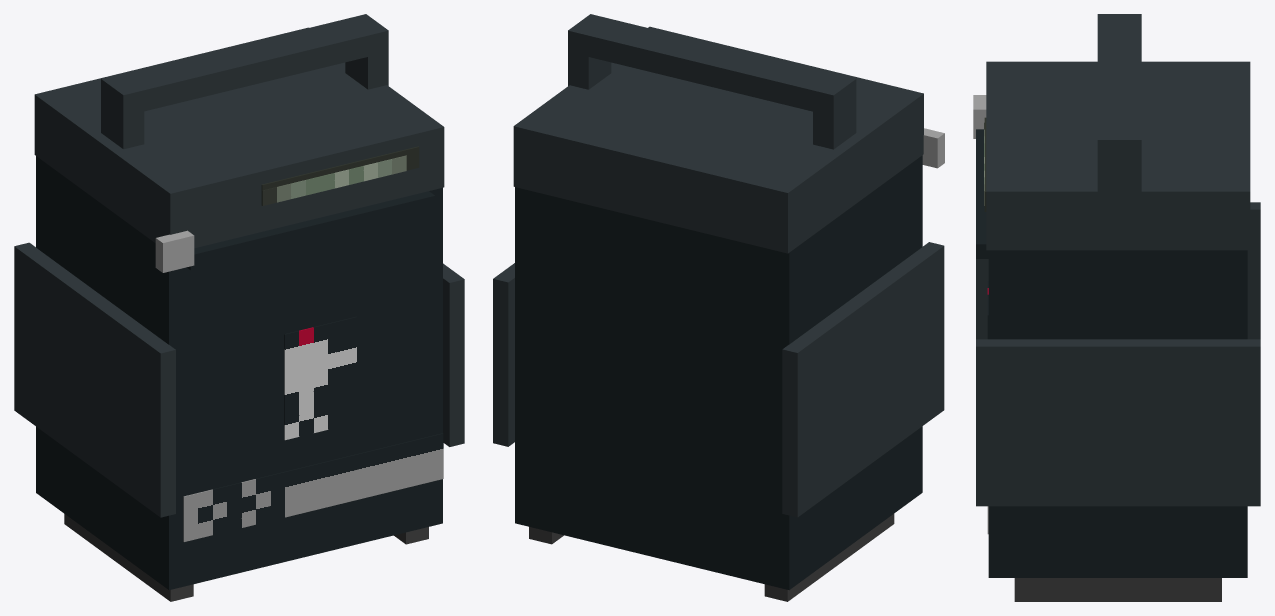
Rendered from CMU3DDropshipSentryDefenseCloud.glb.
3 views of the same model, side by side, from view 1: azimuth 30°, elevation 25°; view 2: azimuth 150°, elevation 25°; view 3: azimuth 270°, elevation 25° (orthographic). The views are drawn at different scales.
Parts seen in each view (by area): view 1: heavy protective case, top closed lid, raised side protective rail -0.345, original lower equipment legend, carry handle top bridge, source sentry silhouette stencil, lid top seam, raised side protective rail 0.281, original small status segment, carry handle riser -0.29, case foot -0.28, carry handle riser 0.24 (+2 smaller); view 2: heavy protective case, top closed lid, raised side protective rail -0.345, carry handle top bridge, raised side protective rail 0.281, carry handle riser -0.29, case foot -0.28, carry handle riser 0.24, side closed latch; view 3: raised side protective rail 0.281, top closed lid, heavy protective case, carry handle top bridge, case foot 0.23, raised side protective rail -0.345, carry handle riser 0.24, lid top seam, side closed latch.
Part boxes in pixels (bbox=[...]): heavy protective case: bbox=[36, 156, 442, 590]; top closed lid: bbox=[34, 27, 444, 248]; raised side protective rail -0.345: bbox=[14, 242, 175, 517]; original lower equipment legend: bbox=[183, 433, 443, 541]; carry handle top bridge: bbox=[101, 14, 388, 115]; source sentry silhouette stencil: bbox=[284, 316, 356, 440]; lid top seam: bbox=[187, 191, 435, 270]; raised side protective rail 0.281: bbox=[443, 263, 464, 446]; original small status segment: bbox=[262, 155, 406, 205]; carry handle riser -0.29: bbox=[101, 90, 144, 149]; case foot -0.28: bbox=[64, 514, 193, 601]; carry handle riser 0.24: bbox=[345, 41, 388, 89]; heavy protective case: bbox=[515, 155, 922, 590]; top closed lid: bbox=[513, 26, 923, 253]; raised side protective rail -0.345: bbox=[782, 242, 944, 517]; carry handle top bridge: bbox=[568, 14, 856, 116]; raised side protective rail 0.281: bbox=[493, 263, 514, 446]; carry handle riser -0.29: bbox=[813, 90, 856, 149]; case foot -0.28: bbox=[764, 514, 894, 601]; carry handle riser 0.24: bbox=[568, 41, 611, 89]; side closed latch: bbox=[922, 128, 944, 168]; raised side protective rail 0.281: bbox=[976, 339, 1260, 506]; top closed lid: bbox=[986, 61, 1250, 250]; heavy protective case: bbox=[988, 250, 1247, 577]; carry handle top bridge: bbox=[1097, 14, 1141, 160]; case foot 0.23: bbox=[1014, 578, 1221, 601]; raised side protective rail -0.345: bbox=[976, 202, 1260, 339]; carry handle riser 0.24: bbox=[1097, 150, 1141, 199]; lid top seam: bbox=[976, 129, 988, 258]; side closed latch: bbox=[973, 95, 986, 138].
Size of the model in its own units: 0.659 by 0.987 by 0.555.
8 materials, 3 textured.
